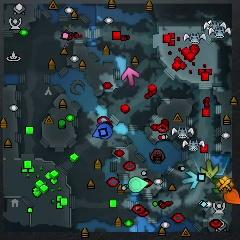p1: (93, 122, 113, 140)
p2: (128, 176, 149, 193)
p5: (223, 187, 240, 205)
x1: (121, 67, 140, 86)
x2: (199, 159, 220, 179)
x3: (180, 171, 199, 189)
